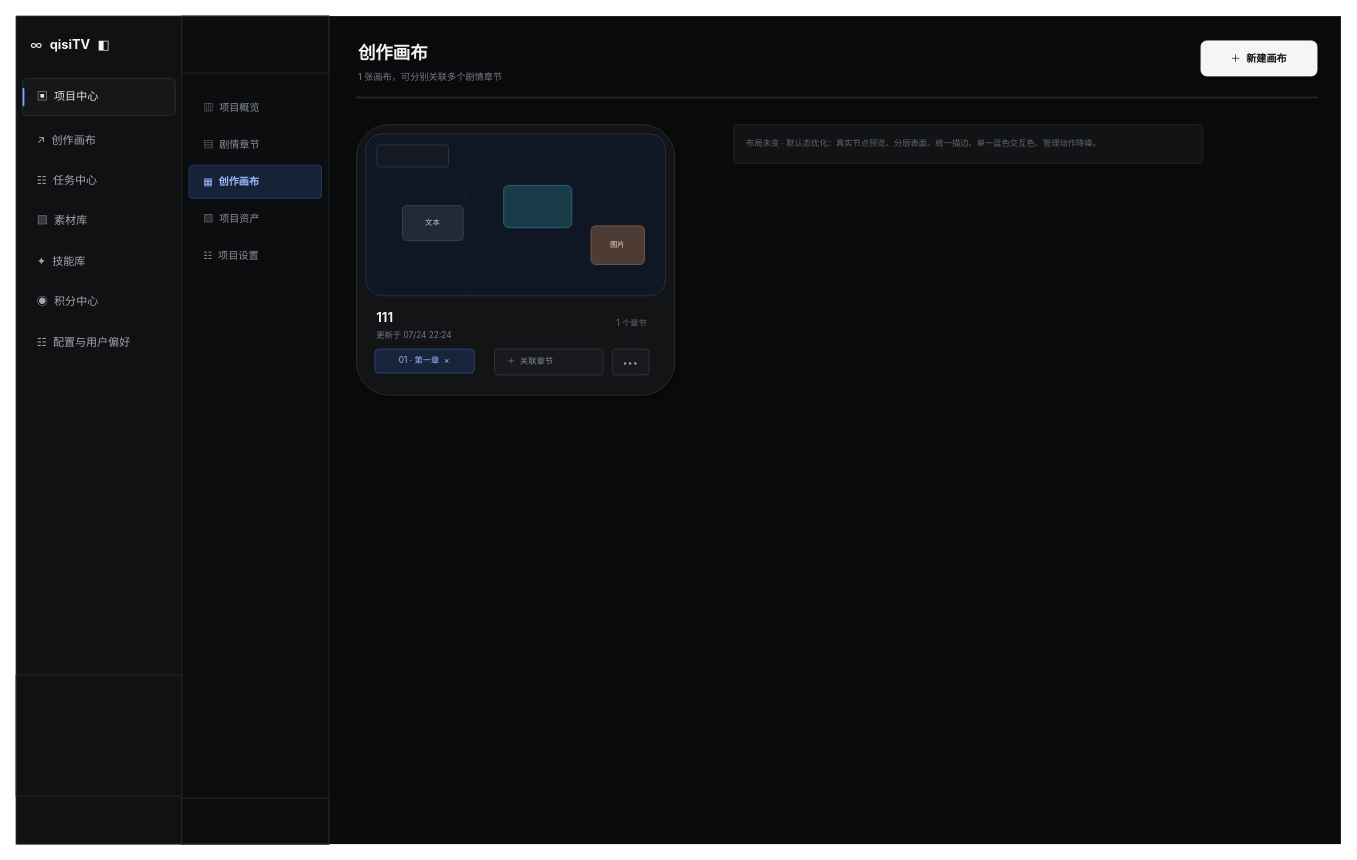
Some shapes in this 1357 by 860 pixel diagram are drawn without their labels. Each missing label, with the centre of its shape:
"9:16 · 导入小说" goes at (x=255, y=820).
"‹ ▱ 测试项目 1 ● 进行中" goes at (x=255, y=44).
"▦ 画布 01" goes at (x=412, y=155).
"◐ 深色模式 ● ♢ 系统公告 ▤ 更新日志" goes at (x=98, y=735).
"分镜" goes at (x=537, y=206).
